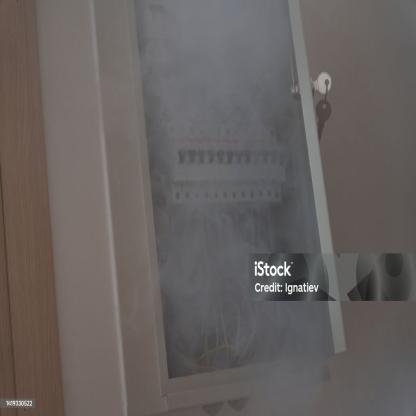smoke: (127, 0, 355, 416)
